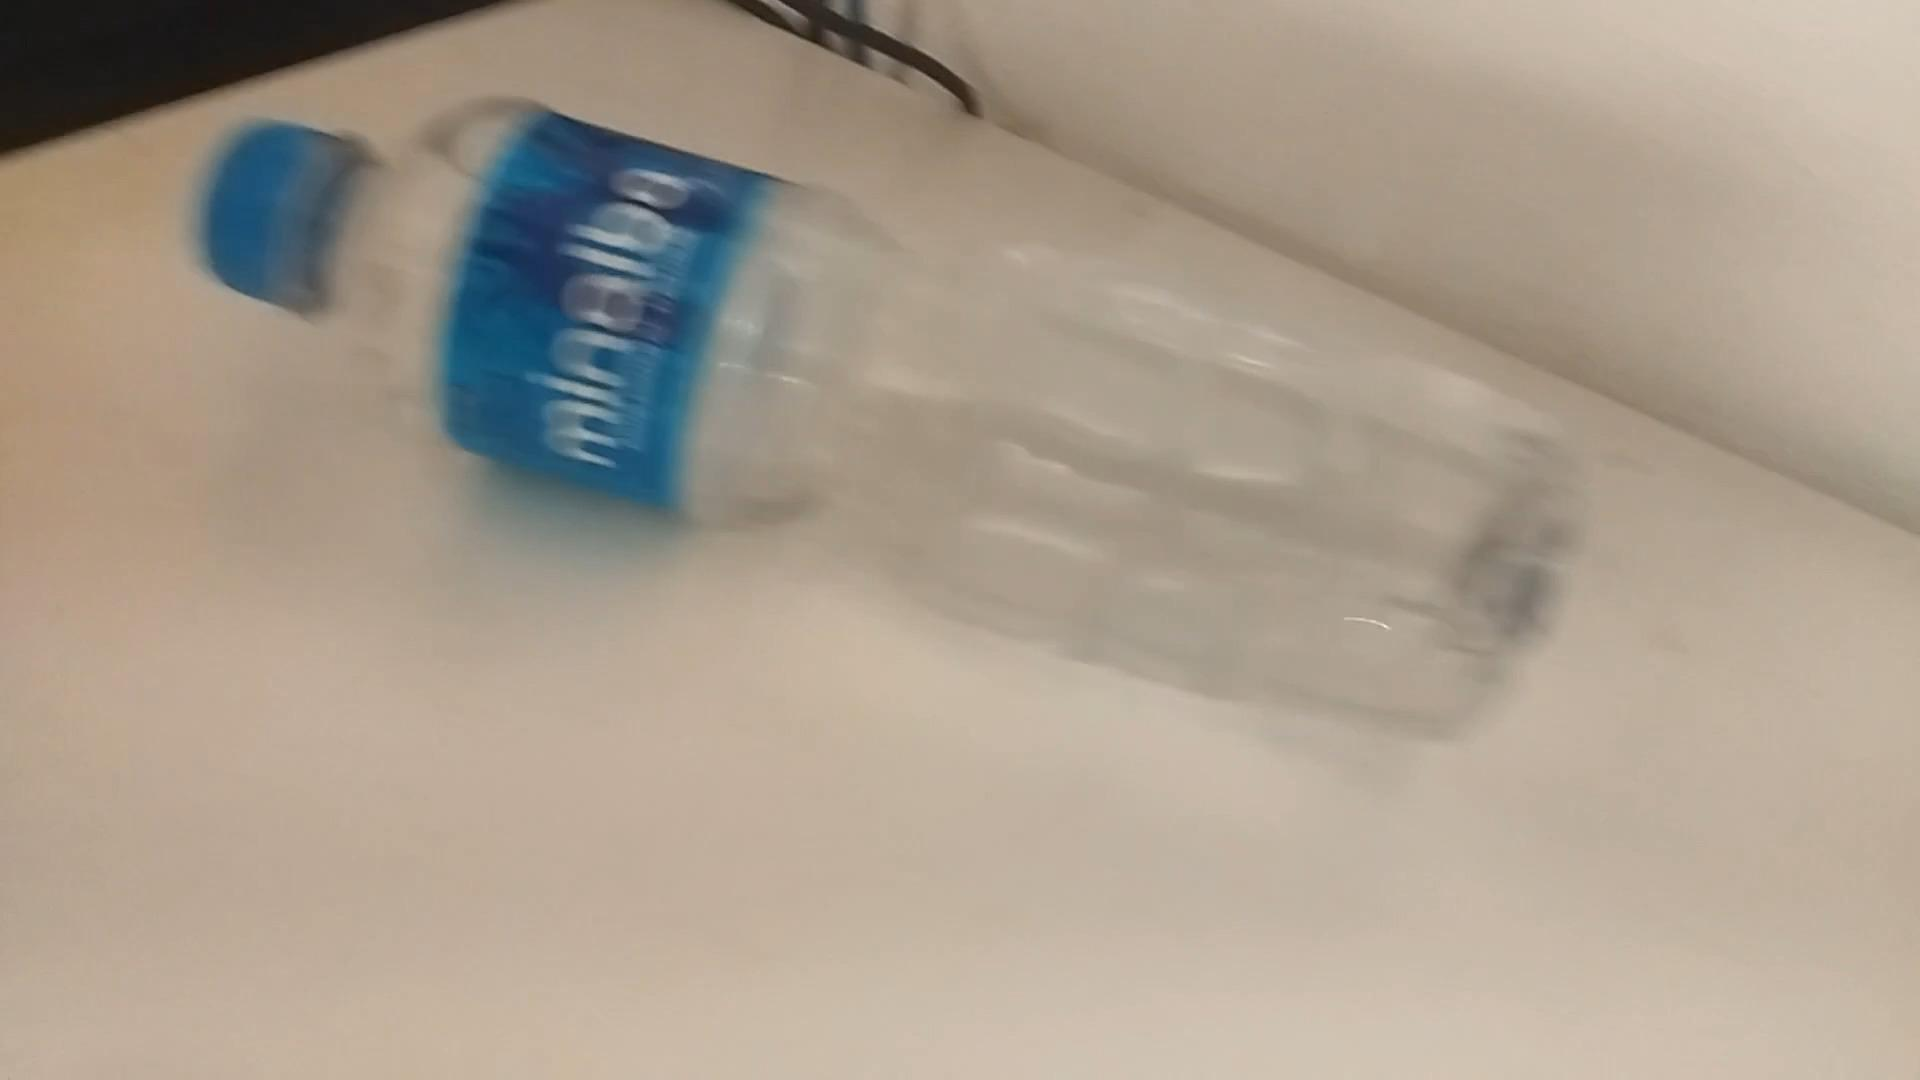agua: (204, 92, 1559, 754)
